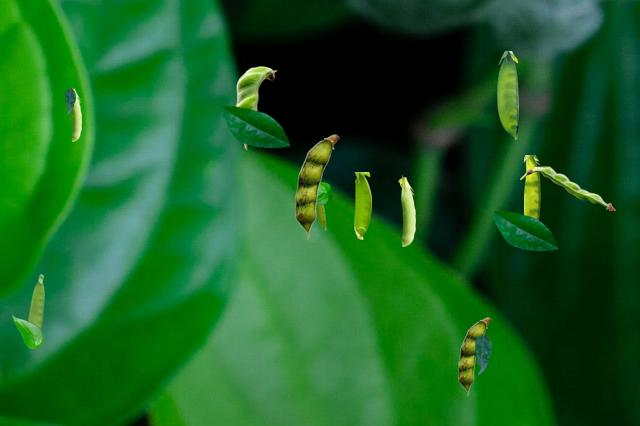pea: (295, 134, 338, 238), (520, 166, 614, 209), (235, 66, 276, 149), (458, 317, 490, 395), (497, 51, 517, 138), (398, 175, 414, 245), (354, 172, 370, 238), (524, 155, 539, 219), (28, 274, 43, 328), (71, 87, 80, 140), (317, 204, 325, 229)
